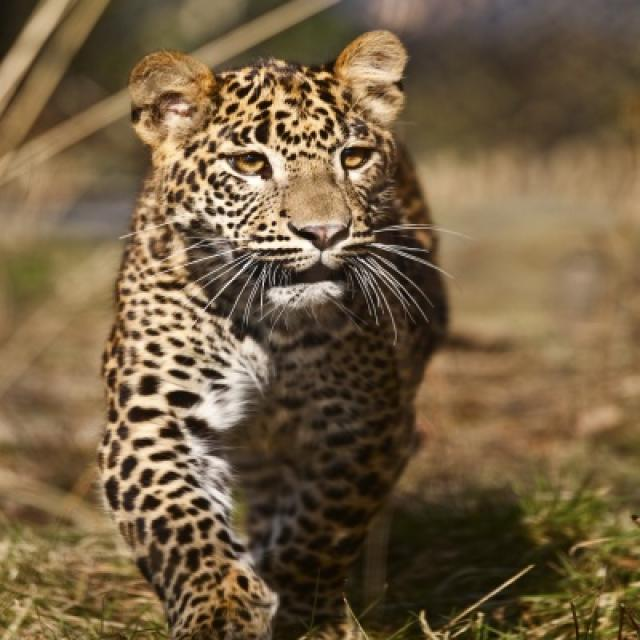Jaguar: (96, 30, 453, 638)
